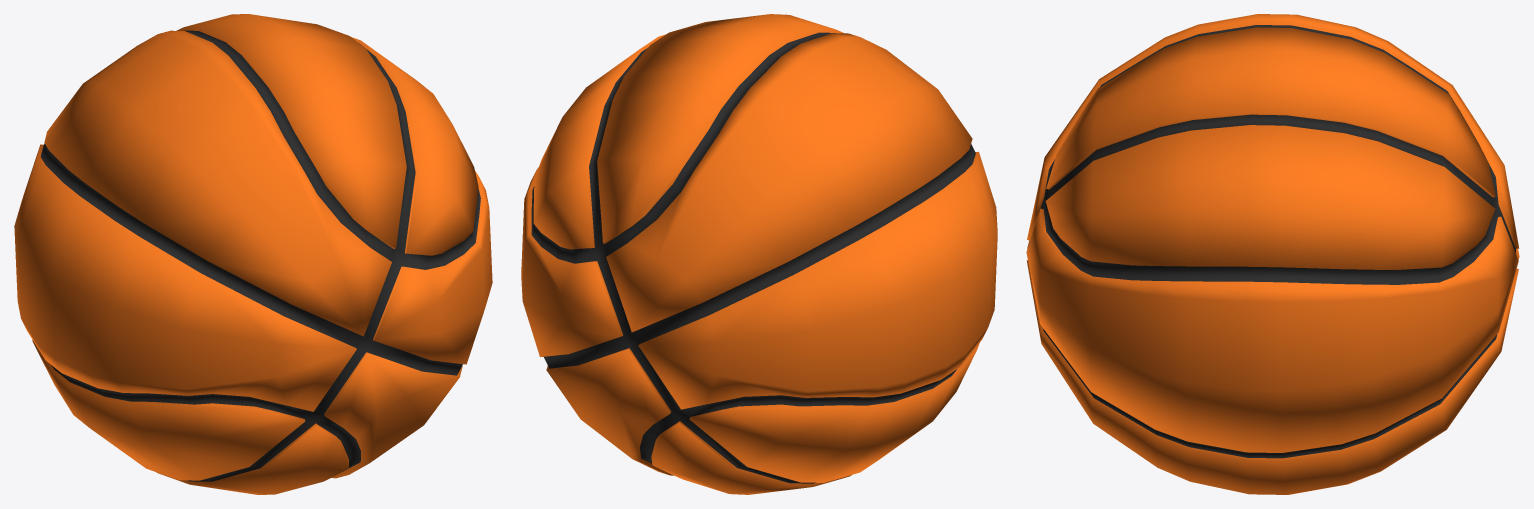
File: BasketBall.fbx
3 renders of one model, left to right at view 1: azimuth 30°, elevation 25°; view 2: azimuth 150°, elevation 25°; view 3: azimuth 270°, elevation 25°, orthographic.
Parts seen in each view (by area): view 1: BasketBall; view 2: BasketBall; view 3: BasketBall.
Boxes of the visible parts, box(x1,y1,x2,y2) form: BasketBall: box(14, 14, 492, 494); BasketBall: box(521, 14, 997, 494); BasketBall: box(1026, 14, 1519, 494).
Size of the model in its own units: 195 by 195 by 199.
